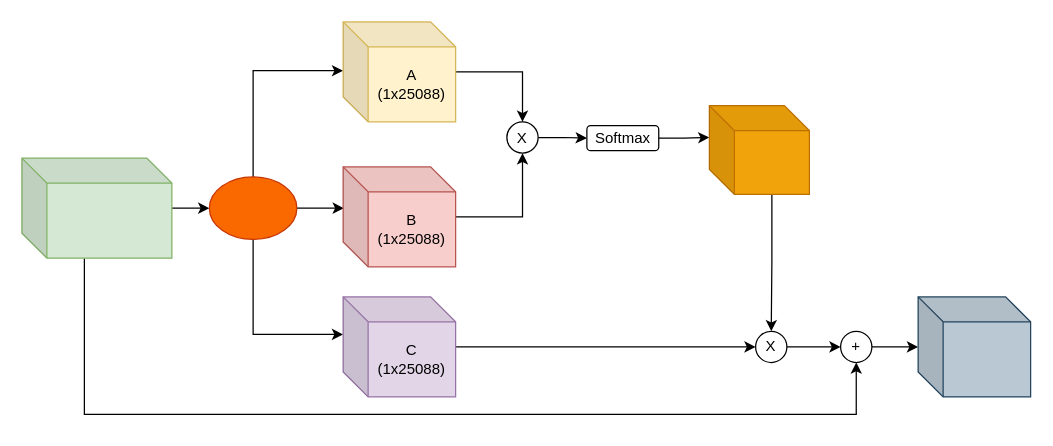
The diagram is 1053 pixels wide and 446 high, and some of its shapes have lost their labels. Each missing label, with the centre of its shape:
"Conv (1x1)" goes at point (252, 207).
"H (1x25088)" goes at point (974, 346).
"S (1x25088)" goes at point (758, 149).
"VGG Output (7x7x512)" goes at point (96, 207).
